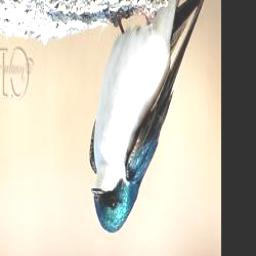Swallow: (89, 0, 209, 234)
